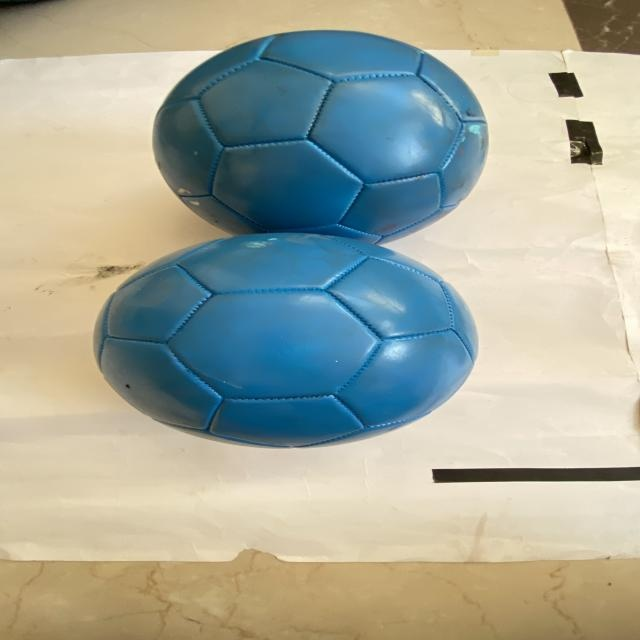blue_ball: (71, 235, 513, 465), (96, 24, 515, 251)
